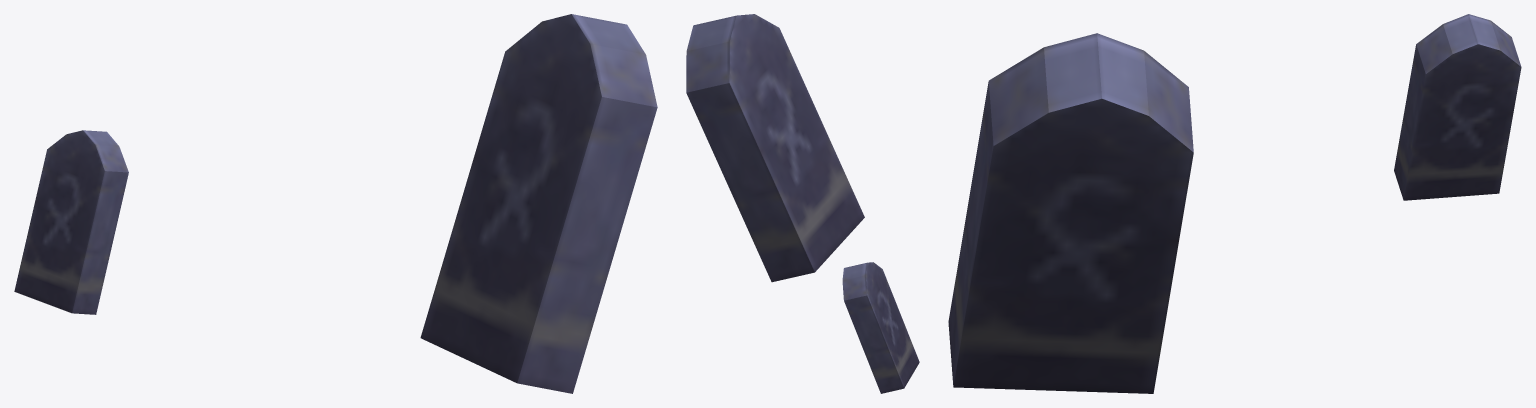
The model's file is Area12_10.fbx.
3 renders of one model, left to right at view 1: azimuth 30°, elevation 25°; view 2: azimuth 150°, elevation 25°; view 3: azimuth 270°, elevation 25°, orthographic. The views are drawn at different scales.
Visible parts, largest first — view 1: Area12_10; view 2: Area12_10; view 3: Area12_10.
Boxes of the visible parts, left/top/right/bottom form: Area12_10: left=14, top=14, right=657, bottom=393; Area12_10: left=686, top=14, right=919, bottom=393; Area12_10: left=948, top=14, right=1521, bottom=393.
Bounding box in the file's own units: 502 × 355 × 457.
